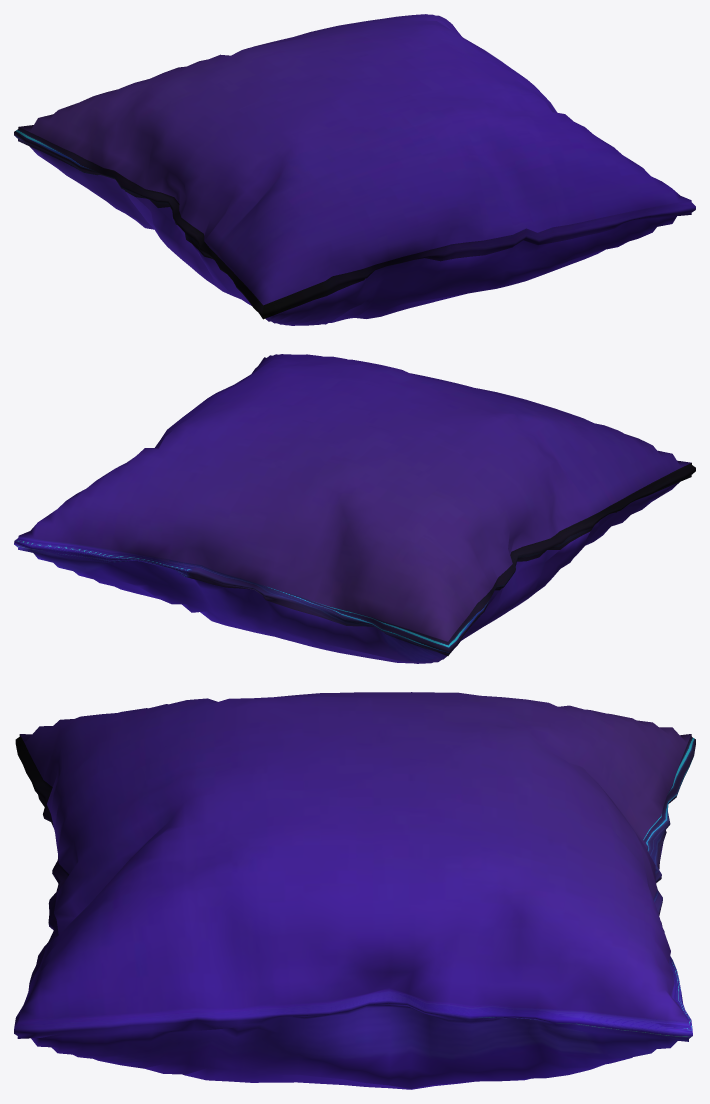
3 renders of one model, top to bottom at view 1: azimuth 30°, elevation 25°; view 2: azimuth 150°, elevation 25°; view 3: azimuth 270°, elevation 25°, orthographic. The views are drawn at different scales.
Visible parts, largest first — view 1: Cube; view 2: Cube; view 3: Cube.
Part boxes in pixels (x1=…): Cube: x1=14, y1=14, x2=695, y2=325; Cube: x1=14, y1=354, x2=695, y2=663; Cube: x1=14, y1=692, x2=695, y2=1089.
Bounding box in the file's own units: 1.95 × 0.8063 × 1.92.
1 material, 1 textured.
